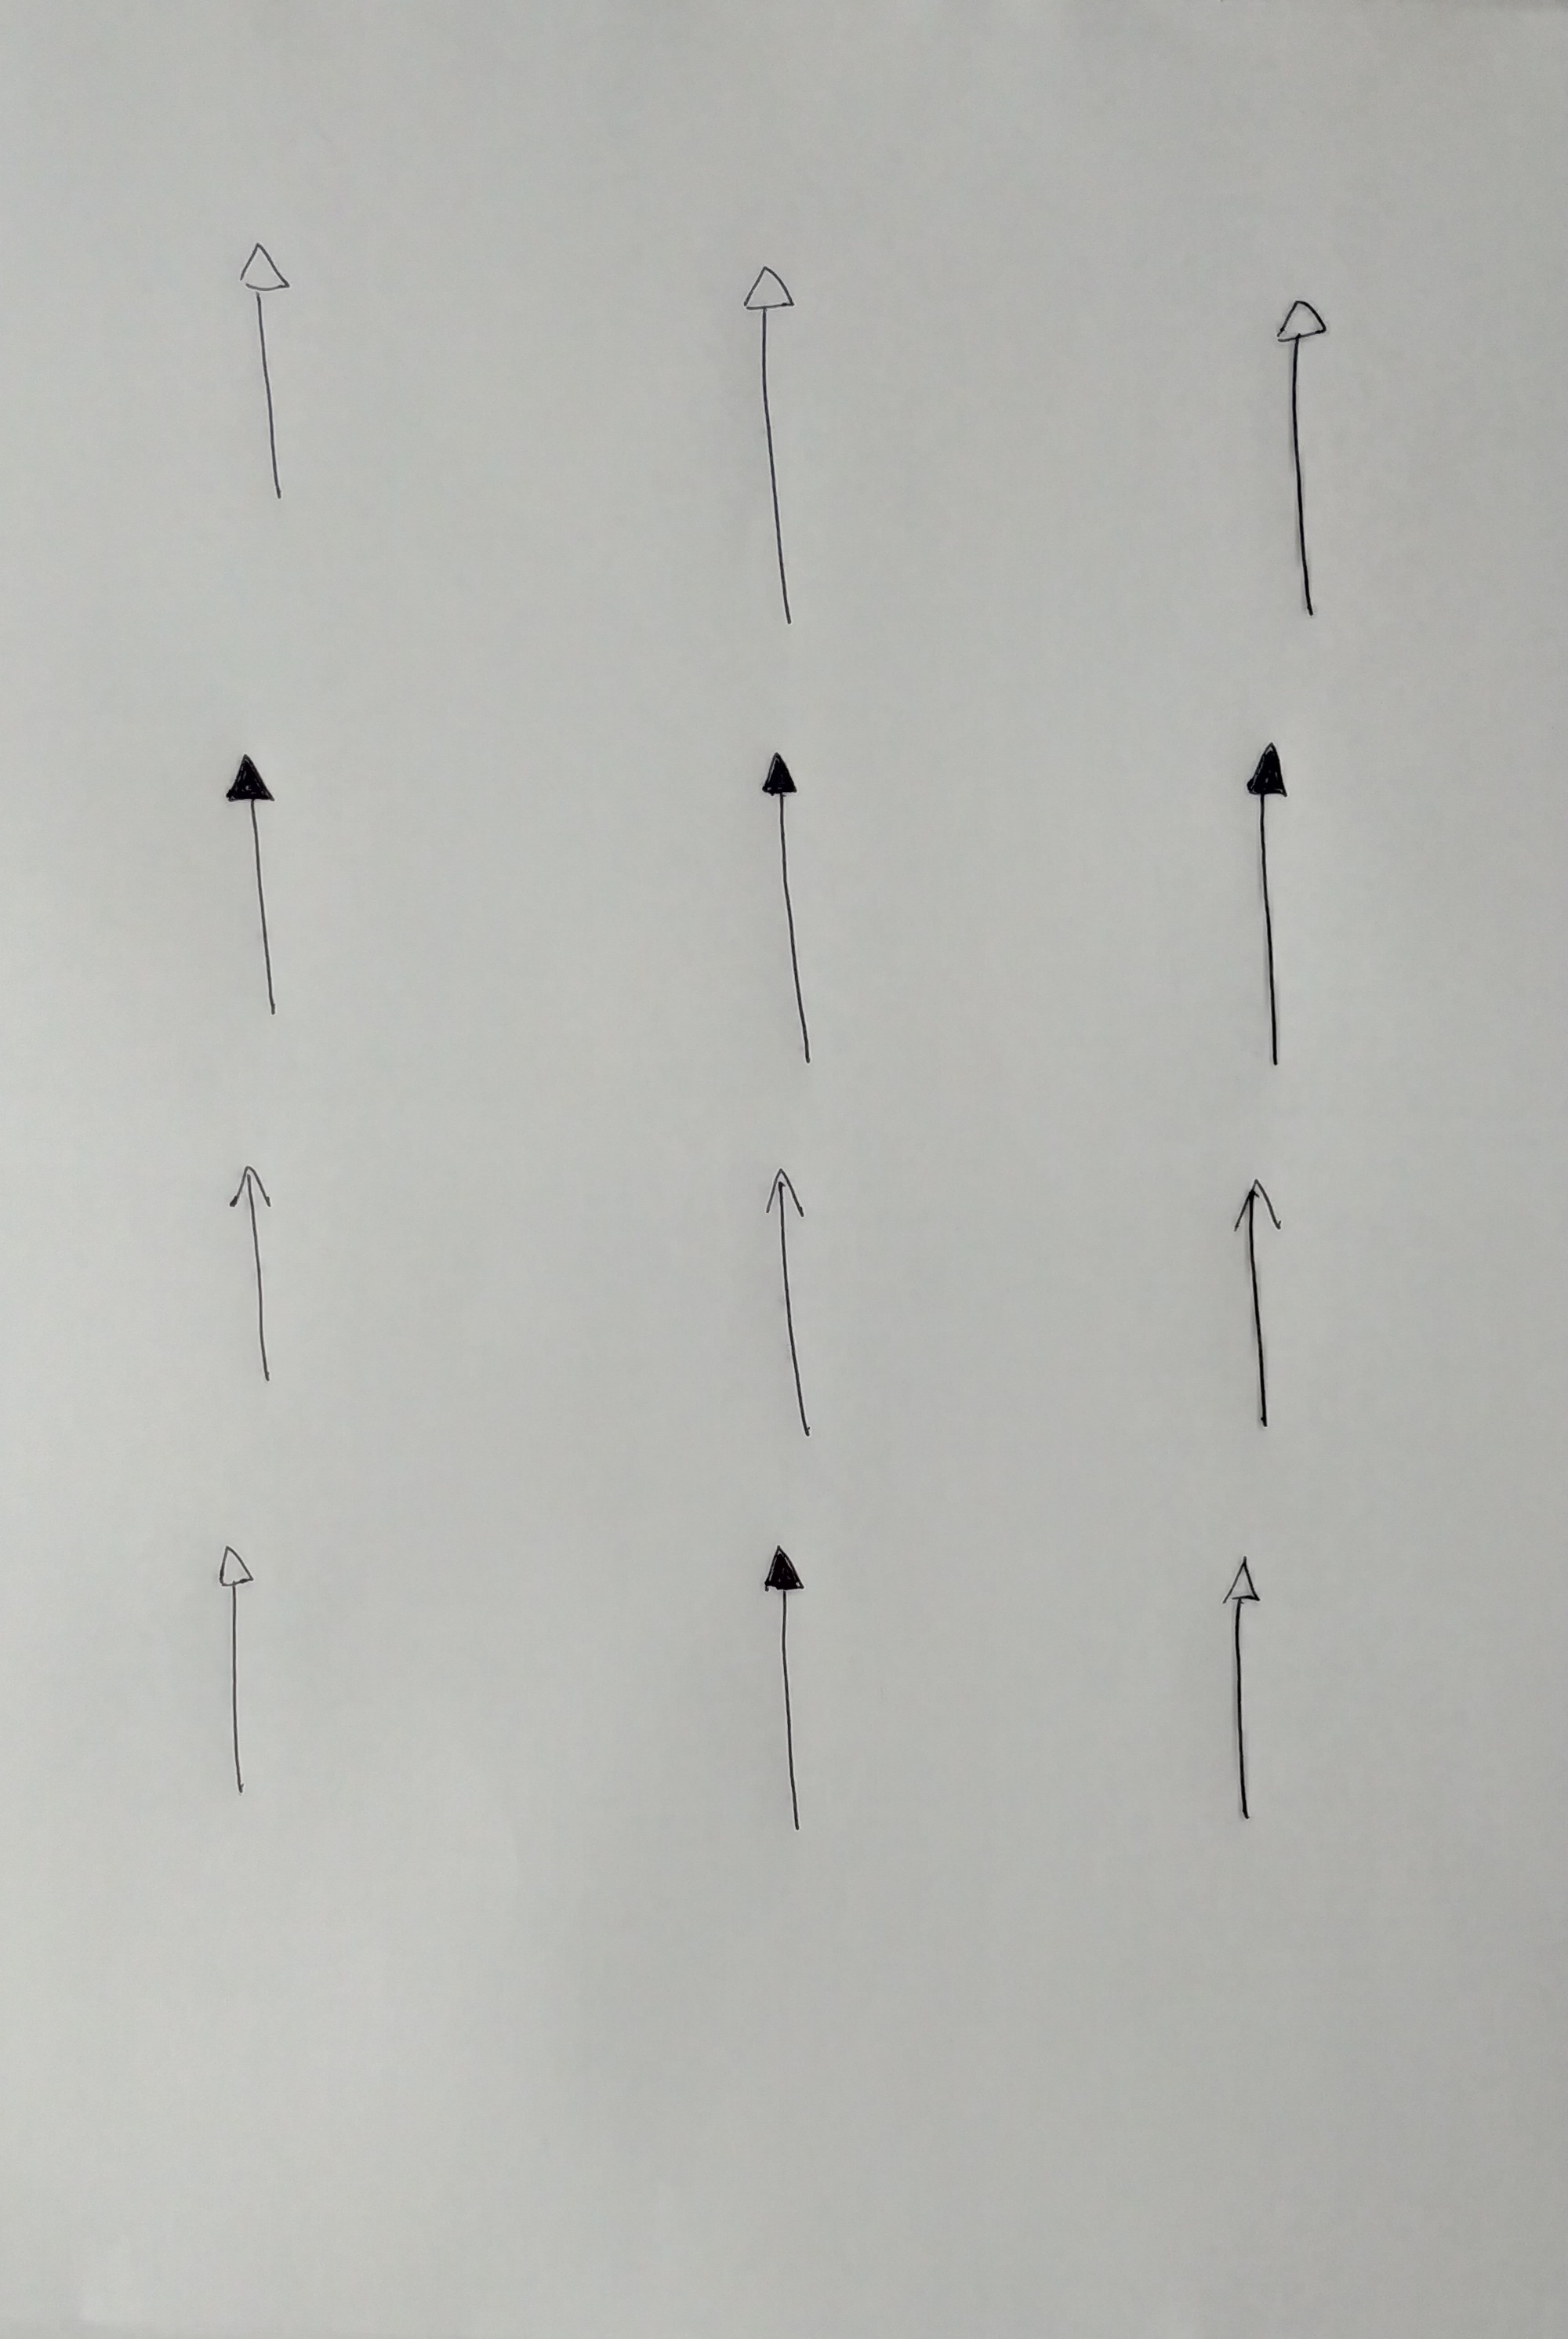arrow_line_up: (740, 266, 807, 626), (754, 749, 823, 1071), (1270, 294, 1333, 621), (235, 238, 305, 506), (222, 752, 290, 1023), (759, 1165, 823, 1440), (759, 1547, 819, 1832), (1244, 742, 1293, 1067), (1228, 1177, 1286, 1431), (222, 1162, 280, 1386), (1221, 1552, 1265, 1832), (212, 1545, 259, 1802)
